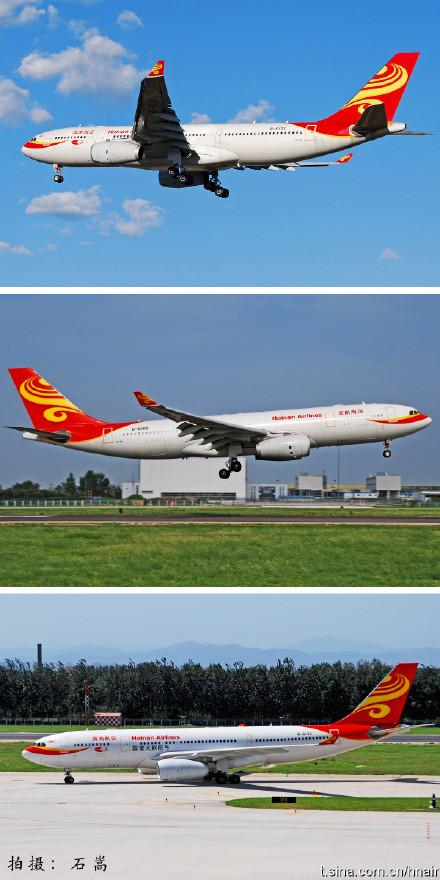airplane: (13, 50, 433, 192), (6, 354, 425, 487), (3, 663, 424, 787)
